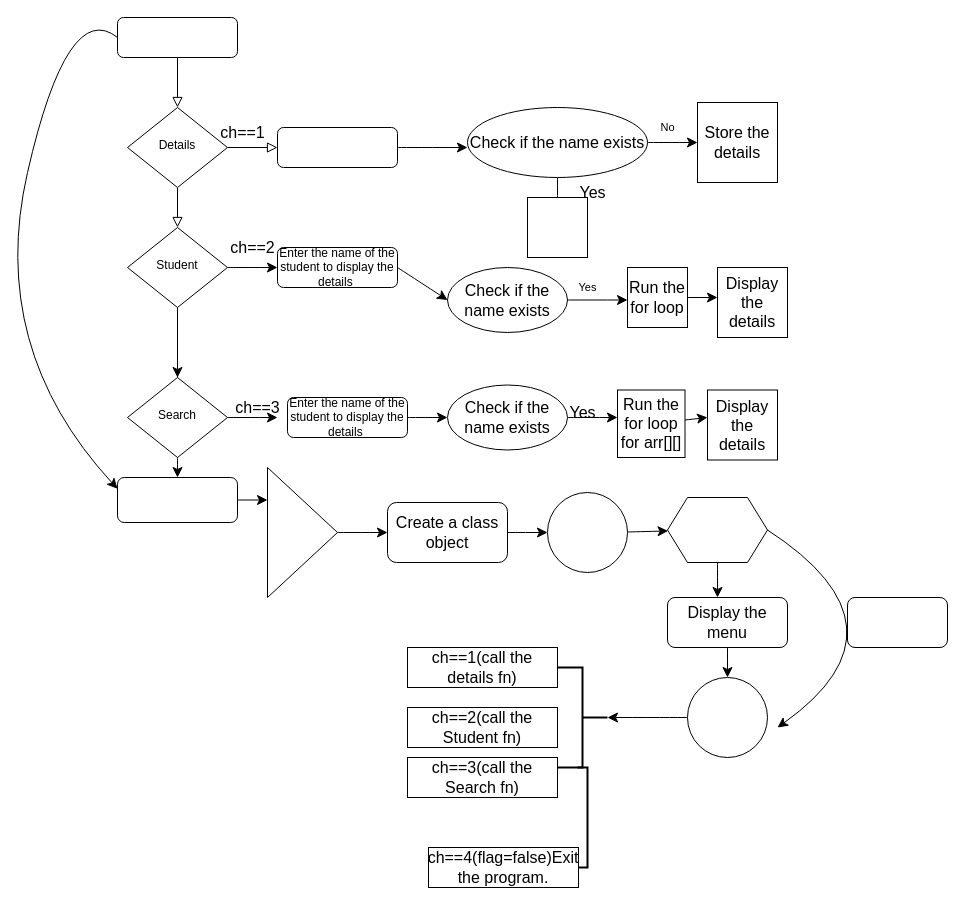
This 965x905 diagram has some shape labels left out. The centre of each missing label's shape, as x and y in pixels:
Create a scanner object: (302,532)
Does not store: (557,227)
Enter the details of the student in array: (337,147)
Initialize flag= false: (587,532)
Main Function: (177,499)
Run the do while loop: (717,529)
Start: (177,37)
Store the choice in ch: (727,717)
while(flag): (897,622)
